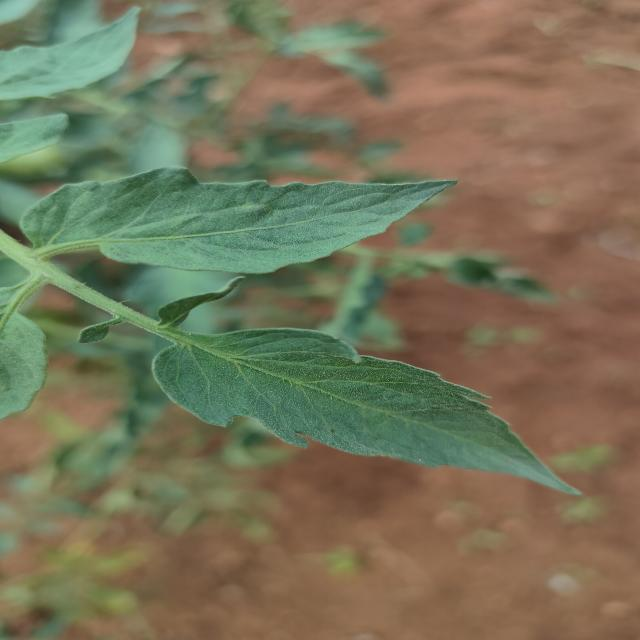tomato_healthy: (156, 325, 582, 493), (20, 167, 454, 276)
